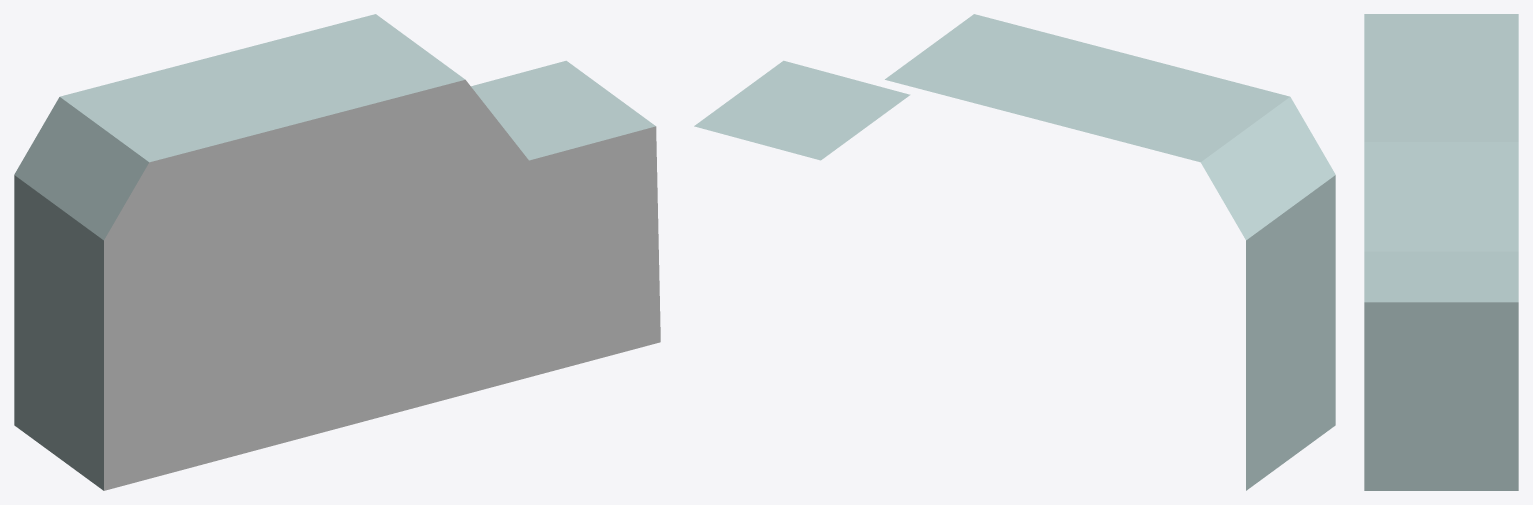
3 renders of one model, left to right at view 1: azimuth 30°, elevation 25°; view 2: azimuth 150°, elevation 25°; view 3: azimuth 270°, elevation 25°, orthographic. The views are drawn at different scales.
Parts seen in each view (by area): view 1: 0_0_2_1_0_1_0_3; view 2: 0_0_2_1_0_1_0_3; view 3: 0_0_2_1_0_1_0_3.
Part boxes in pixels (x1,y1,x2,y2): 0_0_2_1_0_1_0_3: [14, 14, 660, 490]; 0_0_2_1_0_1_0_3: [694, 14, 1335, 490]; 0_0_2_1_0_1_0_3: [1364, 14, 1518, 490].
Bounding box in the file's own units: 10.75 × 5.96 × 3.
